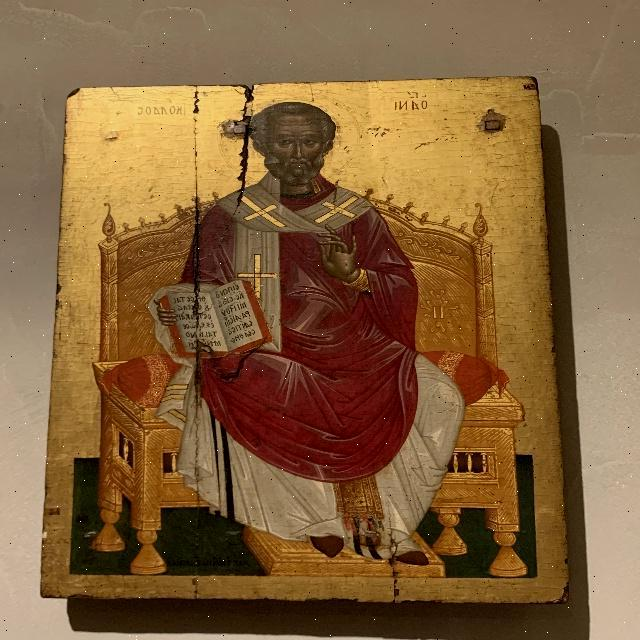book: (165, 290, 272, 356)
cross: (235, 192, 291, 231), (240, 254, 277, 298), (316, 194, 366, 226)
hand: (313, 222, 383, 297)
saint: (154, 101, 476, 565)
